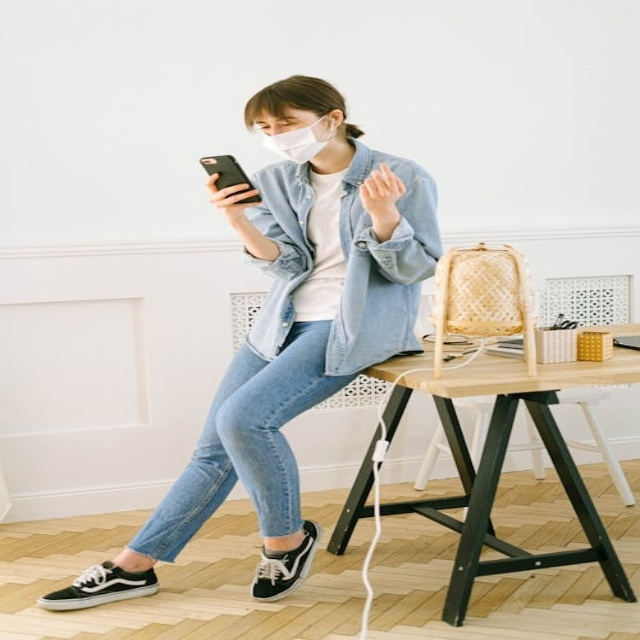Mascara: (254, 113, 338, 164)
Sin_gafas: (255, 123, 270, 131), (278, 121, 293, 127)
Sin_guantes: (200, 172, 264, 217), (353, 163, 403, 211)
